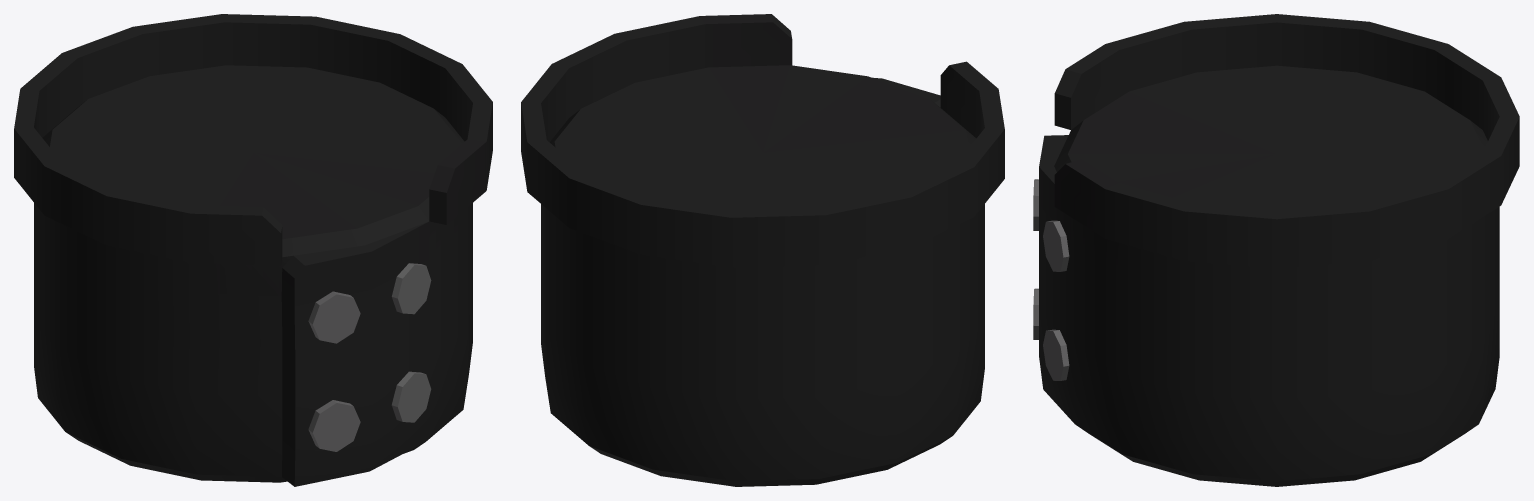
File: Body_Cooking_Chef_Dress_01_C02.fbx
3 renders of one model, left to right at view 1: azimuth 30°, elevation 25°; view 2: azimuth 150°, elevation 25°; view 3: azimuth 270°, elevation 25°, orthographic.
Visible parts, largest first — view 1: Body_Cooking_Chef_Dress_01_C02; view 2: Body_Cooking_Chef_Dress_01_C02; view 3: Body_Cooking_Chef_Dress_01_C02.
Part boxes in pixels (bbox=[...]): Body_Cooking_Chef_Dress_01_C02: bbox=[14, 14, 492, 486]; Body_Cooking_Chef_Dress_01_C02: bbox=[521, 14, 1004, 486]; Body_Cooking_Chef_Dress_01_C02: bbox=[1033, 14, 1519, 486].
Size of the model in its own units: 109 by 70.41 by 109.
